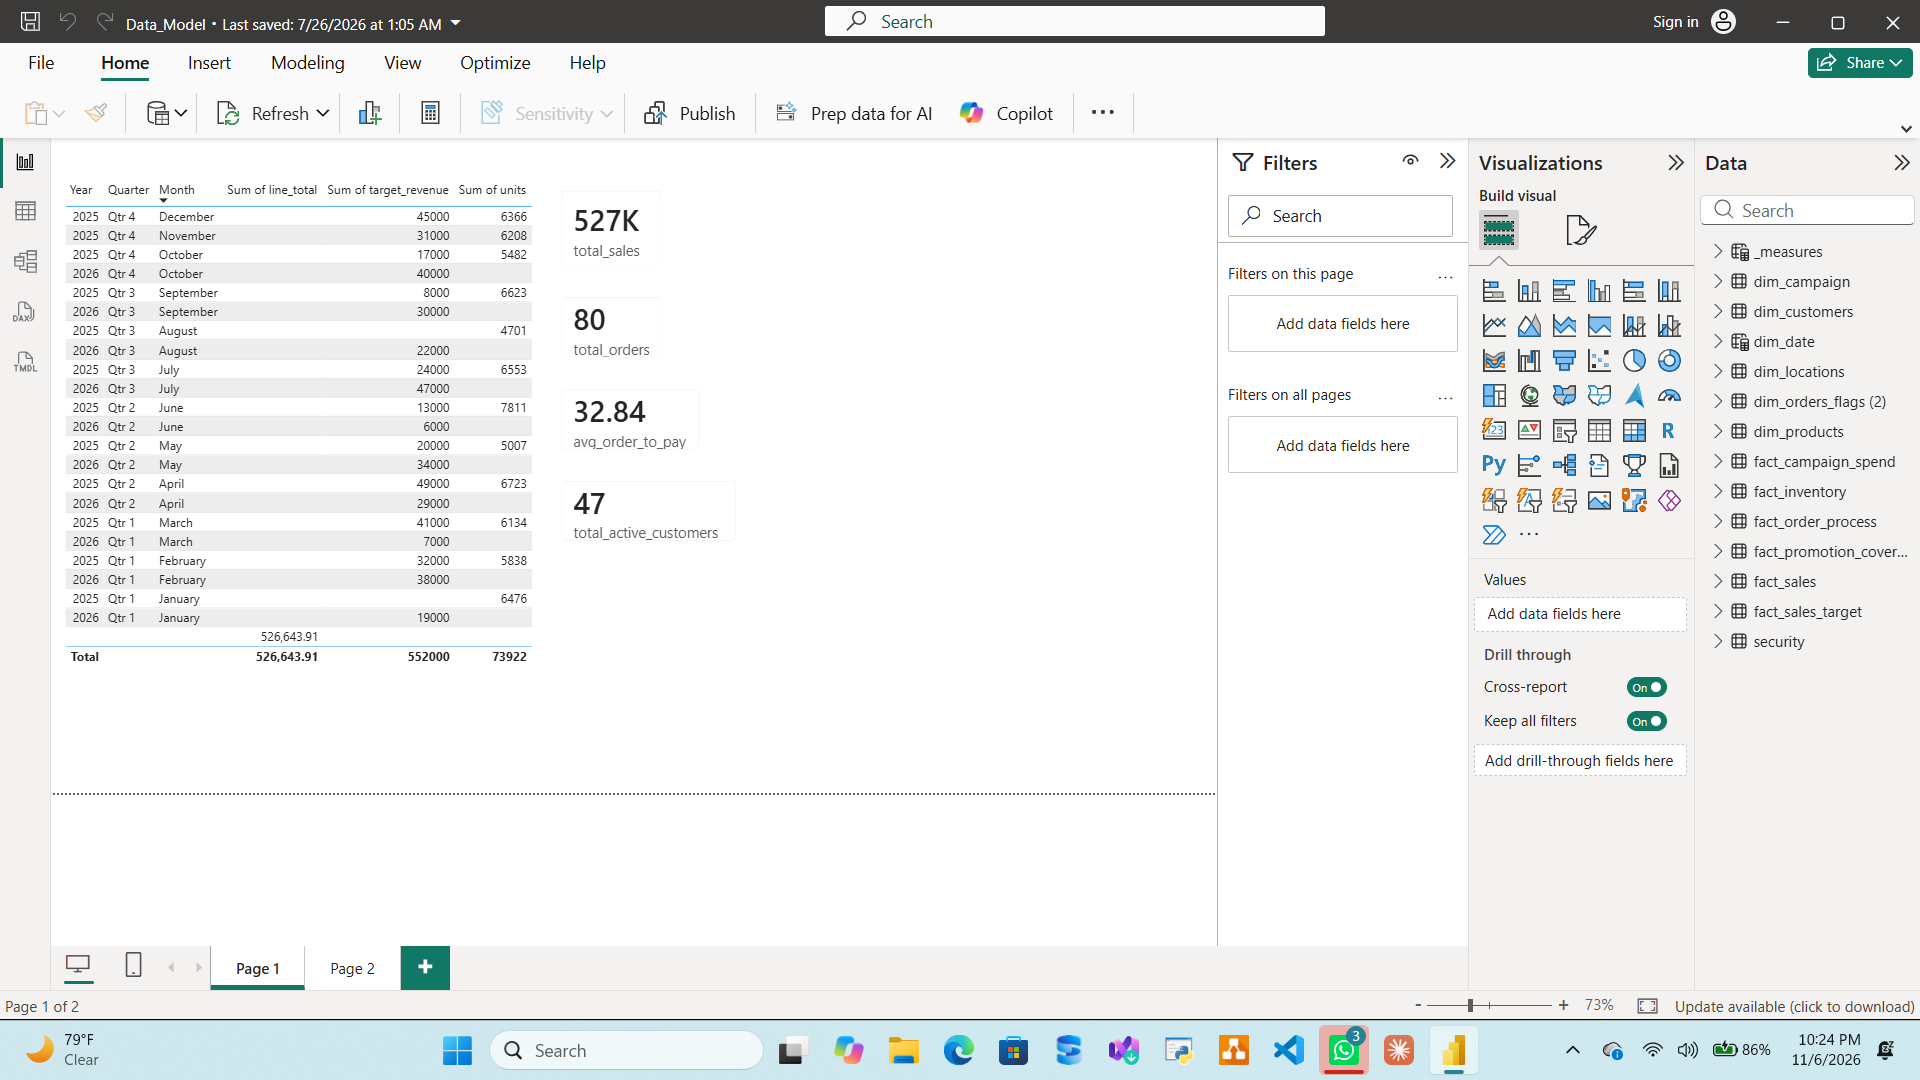

This screenshot's page, from the dashboard's own definition file:
{"tool":"powerbi","page":{"name":"Page 1","canvas":[1280,720],"ordinal":0},"visuals":[{"type":"tableEx","fields":{"Values":["dim_date.Date.Variation.Date Hierarchy.Year","dim_date.Date.Variation.Date Hierarchy.Quarter","dim_date.Date.Variation.Date Hierarchy.Month","Sum(fact_sales.line_total)","Sum(fact_sales_target.target_revenue)","Sum(fact_inventory.units)"]},"box":[9.6,41.2,524.2,553],"z":0},{"type":"cardVisual","fields":{"Data":["_measures.total_sales"]},"box":[543.4,41.2,144.1,116.6],"z":1000},{"type":"cardVisual","fields":{"Data":["_measures.total_orders"]},"box":[543.4,157.8,144.1,100.2],"z":2000},{"type":"cardVisual","fields":{"Data":["_measures.avg_order_to_pay"]},"box":[543.4,259.3,185.2,100.2],"z":3000},{"type":"cardVisual","fields":{"Data":["_measures.total_active_customers"]},"box":[543.4,359.5,226.4,100.2],"z":4000}]}

Visuals, with their boxes on the page's 1280x720 design canvas (x1, y1, x2, y2). These are canvas units, not pixel positions in the 1920x1080 screenshot, which may show the page scaled, cropped or inside an application window:
tableEx - dim_date.Date.Variation.Date Hierarchy.Year x dim_date.Date.Variation.Date Hierarchy.Quarter: {"x1": 10, "y1": 41, "x2": 534, "y2": 594}
cardVisual - _measures.total_sales: {"x1": 543, "y1": 41, "x2": 688, "y2": 158}
cardVisual - _measures.total_orders: {"x1": 543, "y1": 158, "x2": 688, "y2": 258}
cardVisual - _measures.avg_order_to_pay: {"x1": 543, "y1": 259, "x2": 729, "y2": 360}
cardVisual - _measures.total_active_customers: {"x1": 543, "y1": 360, "x2": 770, "y2": 460}
